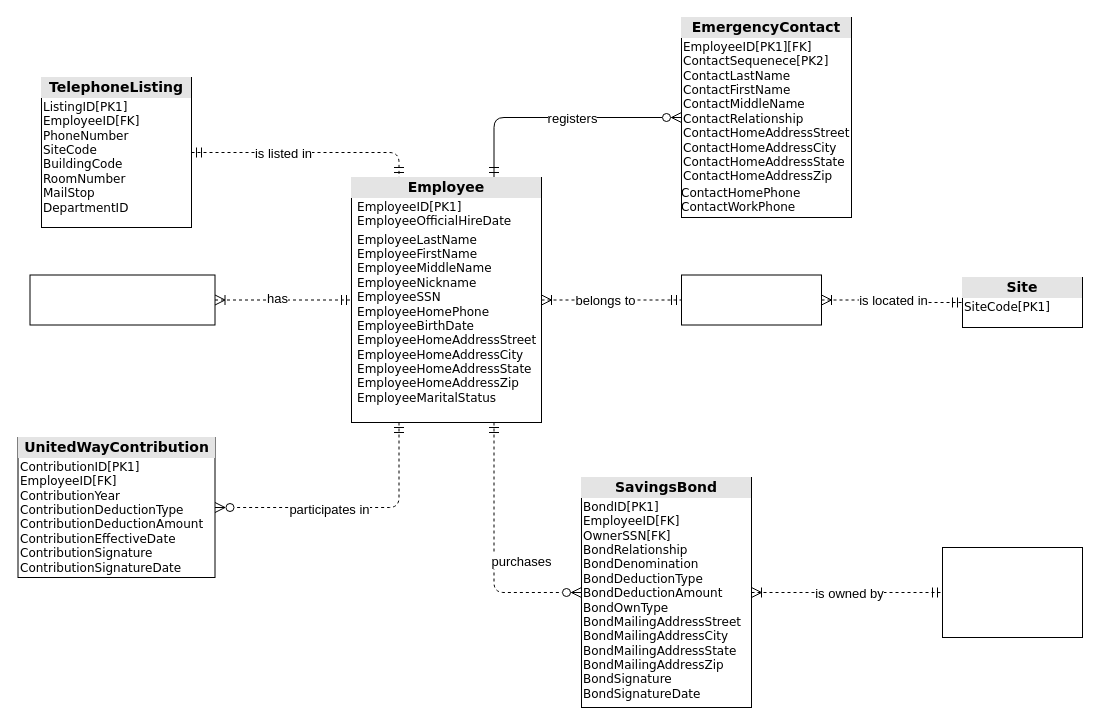
Image size: 1100x725. Some labels were removed from this diagram. The centre of each missing label's shape, as x and y in pixels:
"BondOwner OwnerSSN[PK1] OwnerLastName OwnerFirstName OwnerMiddleName" belongs at point 1012,592.
"Department DepartmentID[PK1]" belongs at point 751,299.
"EmploymentHistory HistoryID[PK1]" belongs at point 122,299.
